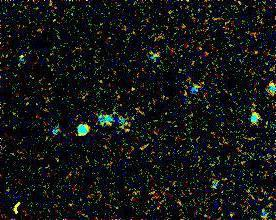star: (7, 41, 37, 71)
